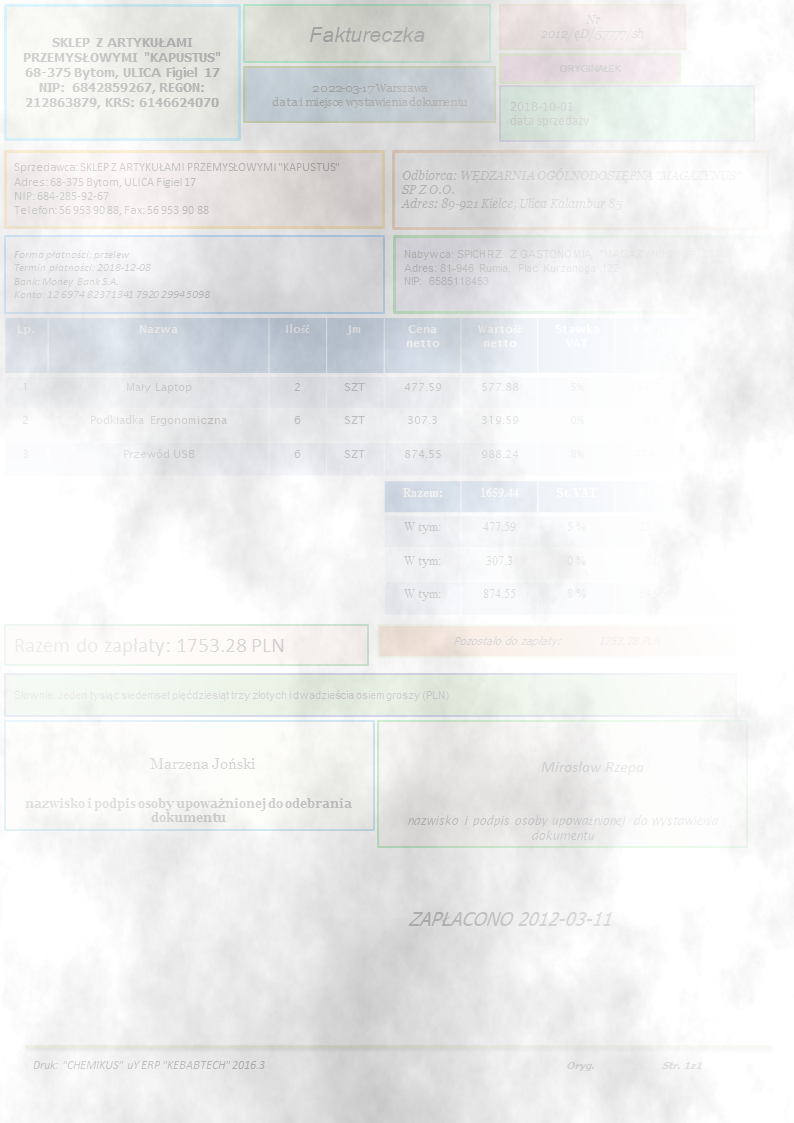Table: (3, 315, 780, 478), (383, 477, 780, 614)
TextBox: (10, 156, 340, 219), (399, 164, 745, 214), (19, 31, 223, 112), (402, 245, 734, 289), (11, 246, 213, 302), (22, 794, 354, 826), (404, 810, 721, 843), (10, 686, 453, 705), (10, 632, 286, 658), (269, 79, 470, 111), (406, 904, 618, 931), (30, 1055, 270, 1073), (449, 631, 665, 650), (538, 11, 646, 44), (305, 21, 427, 49), (507, 96, 589, 129), (145, 751, 257, 774), (563, 1057, 705, 1074), (538, 755, 647, 777), (556, 59, 621, 76)
